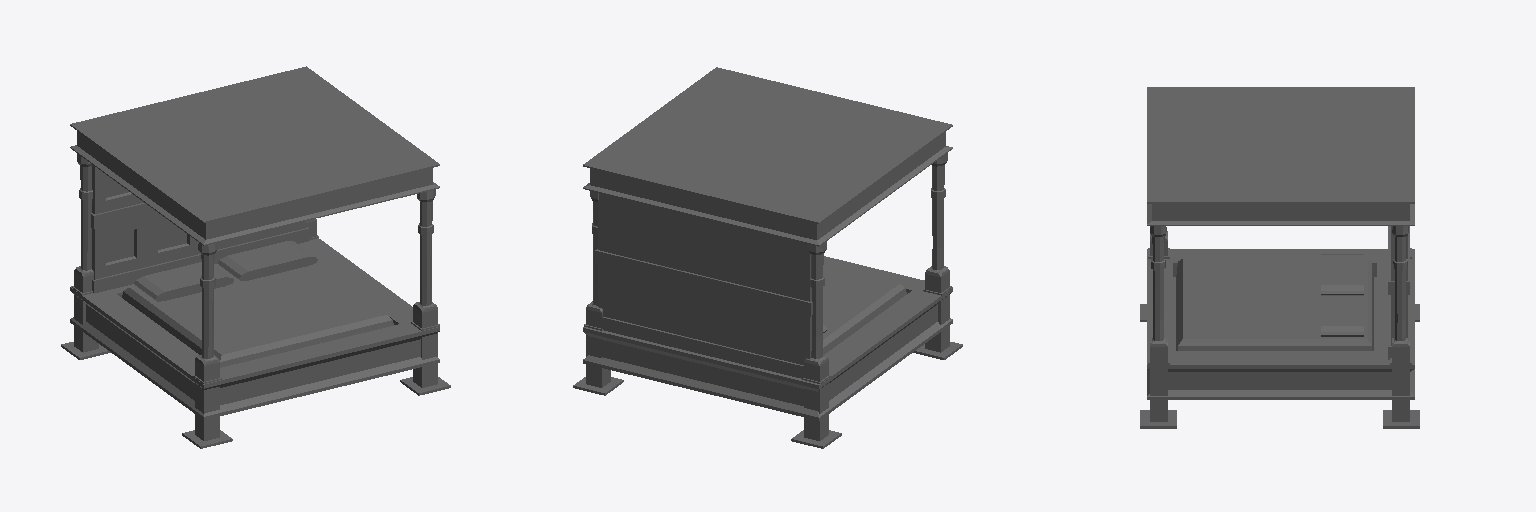
The model's file is master_bed_cover.obj.
3 renders of one model, left to right at view 1: azimuth 30°, elevation 25°; view 2: azimuth 150°, elevation 25°; view 3: azimuth 270°, elevation 25°, orthographic.
Parts seen in each view (by area): view 1: Bed_without_curtains; view 2: Bed_without_curtains; view 3: Bed_without_curtains.
Part boxes in pixels (x1,y1,x2,y2): Bed_without_curtains: (61,66,450,448); Bed_without_curtains: (573,67,962,448); Bed_without_curtains: (1140,87,1419,428).
Bounding box in the file's own units: 2.92 × 2.49 × 2.82.